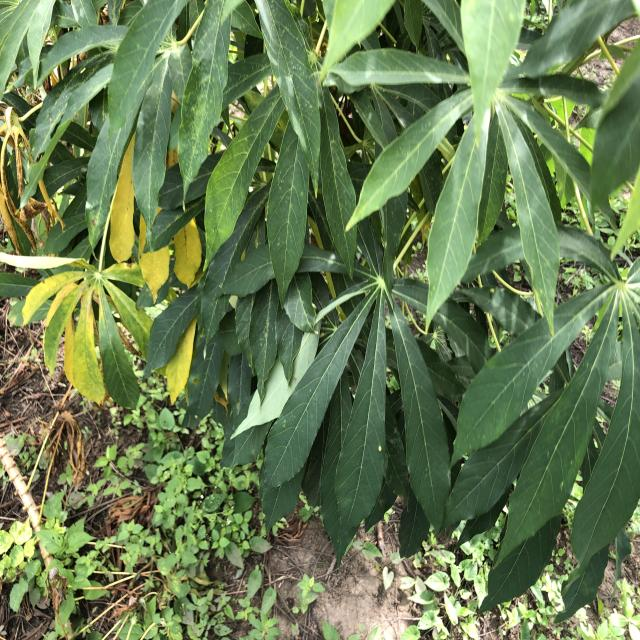Maleza: (13, 485, 286, 627), (583, 433, 613, 457), (373, 439, 396, 461)
Mosaico: (21, 260, 173, 429)
